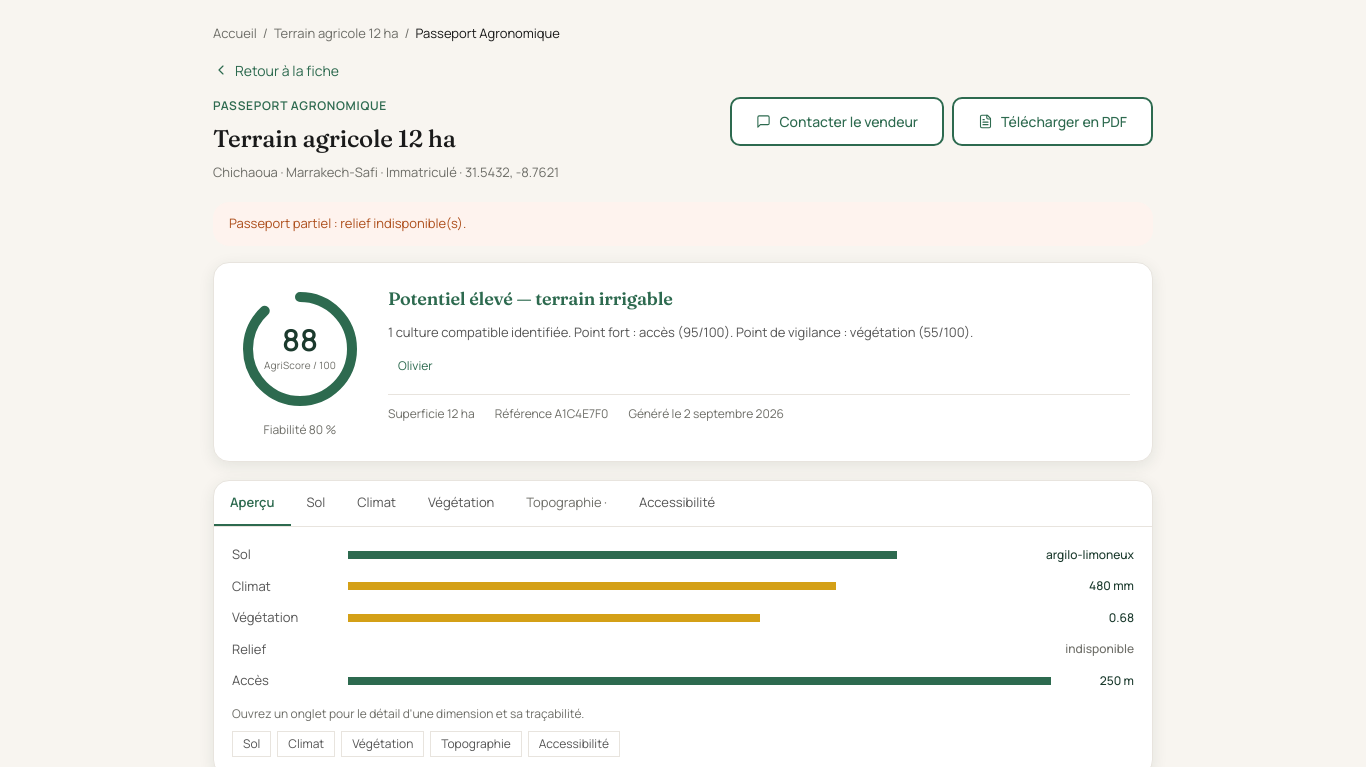
Test: PasseportAgronomiqueScreen › passeport partiel → bandeau + onglet de la dimension indisponible
The width and height of the screenshot is (1366, 767).
Expected: the text "Passeport partiel : relief indisponible(s)." is shown, x1=213 y1=202 x2=1153 y2=246
Click the tab "Topographie ·": (567, 503) x1=510 y1=480 x2=623 y2=526
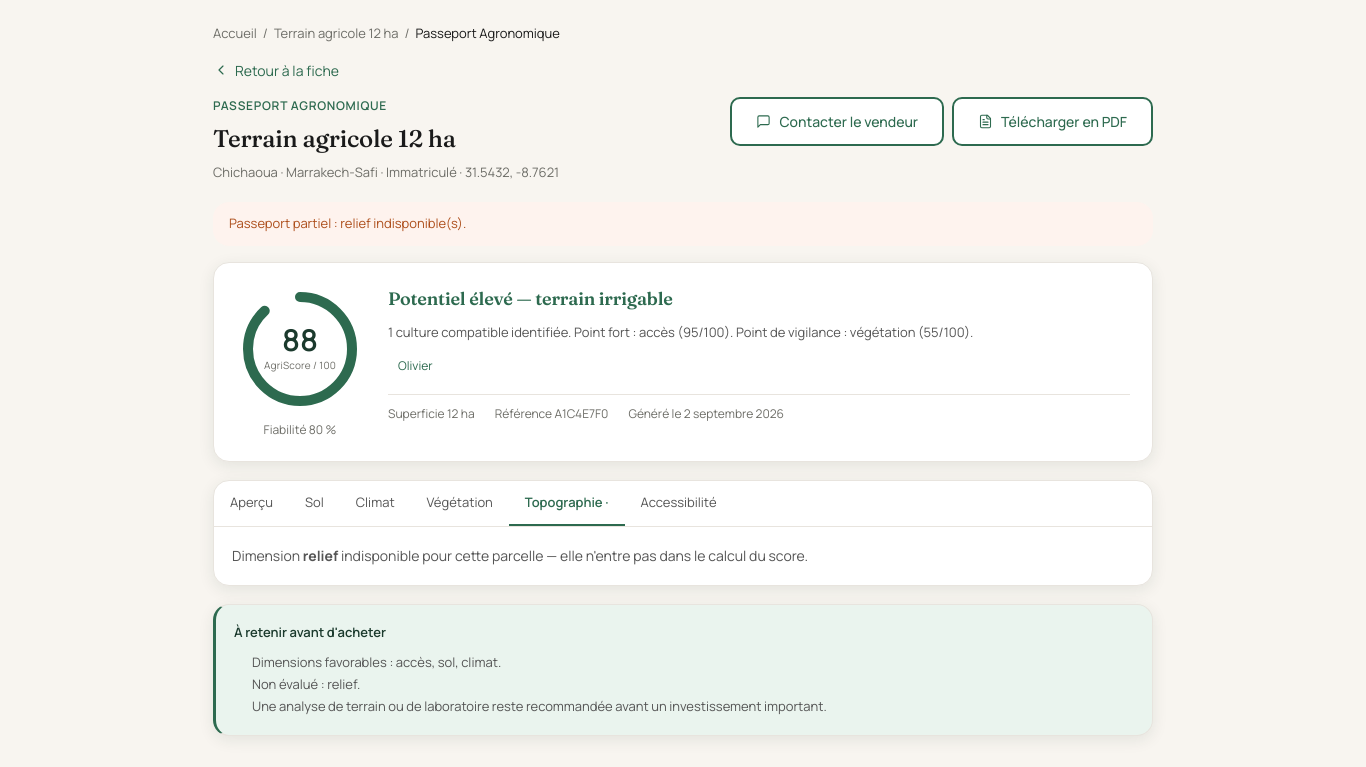
Expected: the text "n'entre pas dans le calcul du score" is shown, x1=338 y1=546 x2=808 y2=565
